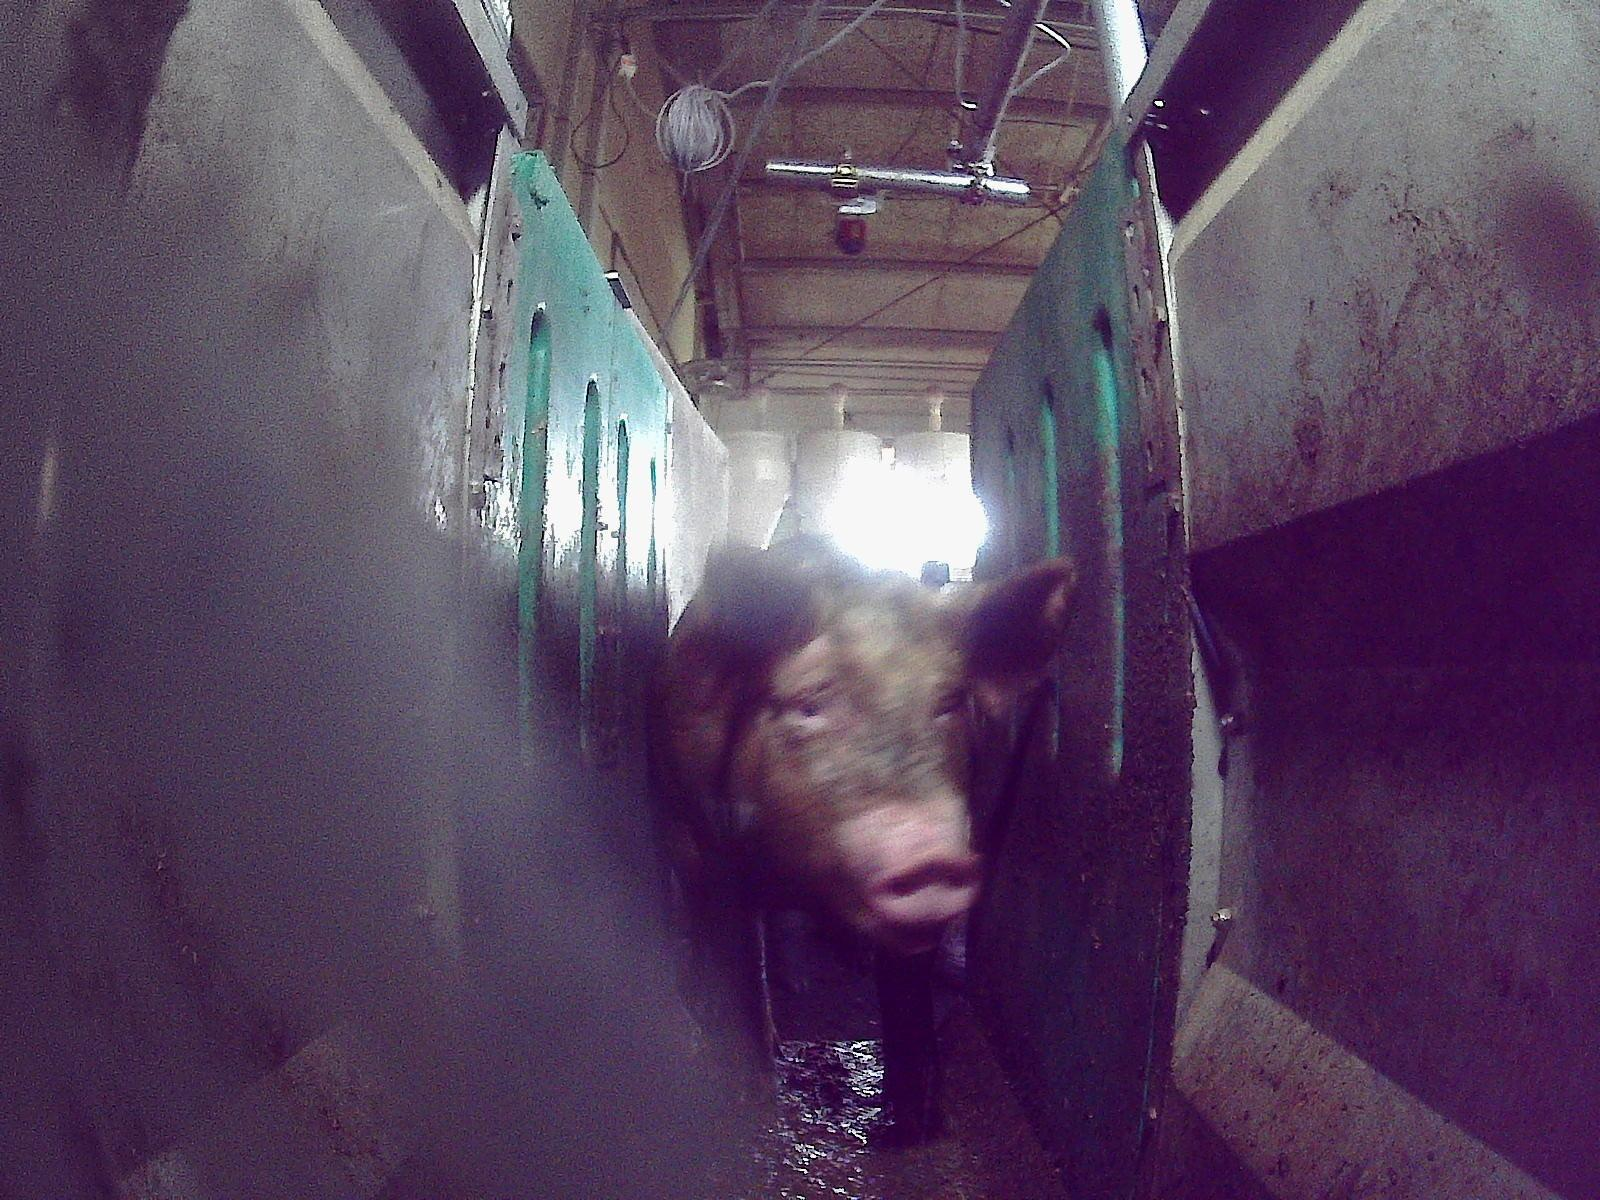Face: (734, 581, 983, 949)
